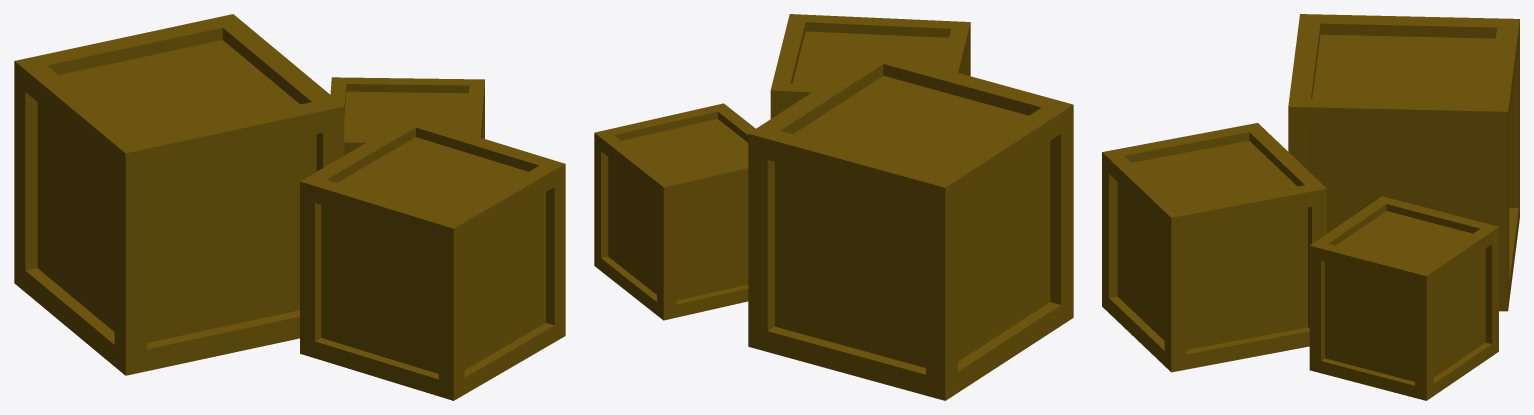
The model's file is caisse.fbx.
The picture shows the model from 3 angles, left to right: view 1: azimuth 30°, elevation 25°; view 2: azimuth 150°, elevation 25°; view 3: azimuth 270°, elevation 25°; orthographic projection. The views are drawn at different scales.
Visible parts, largest first — view 1: Cube_2, Cube_4, Cube_3; view 2: Cube_2, Cube_3, Cube_4; view 3: Cube_4, Cube_2, Cube_3.
Part boxes in pixels (box(x1,y1,x2,y2)): Cube_2: box(14, 14, 344, 375); Cube_4: box(300, 116, 565, 400); Cube_3: box(330, 77, 484, 155); Cube_2: box(748, 50, 1073, 400); Cube_3: box(594, 103, 755, 320); Cube_4: box(770, 14, 970, 118); Cube_4: box(1102, 123, 1326, 372); Cube_2: box(1288, 14, 1519, 311); Cube_3: box(1309, 196, 1498, 400).
Size of the model in its own units: 59.46 by 29.39 by 55.77.
